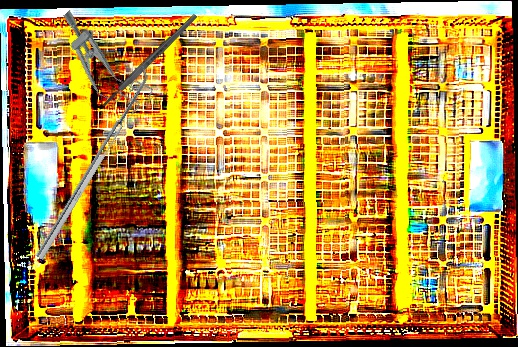Scalpel Handle: (100, 12, 200, 109)
Spatula Surgical: (28, 64, 155, 260)
Speculum: (43, 3, 158, 124)
